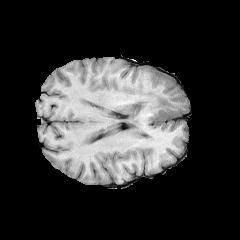glioma: (124, 87, 188, 129)
